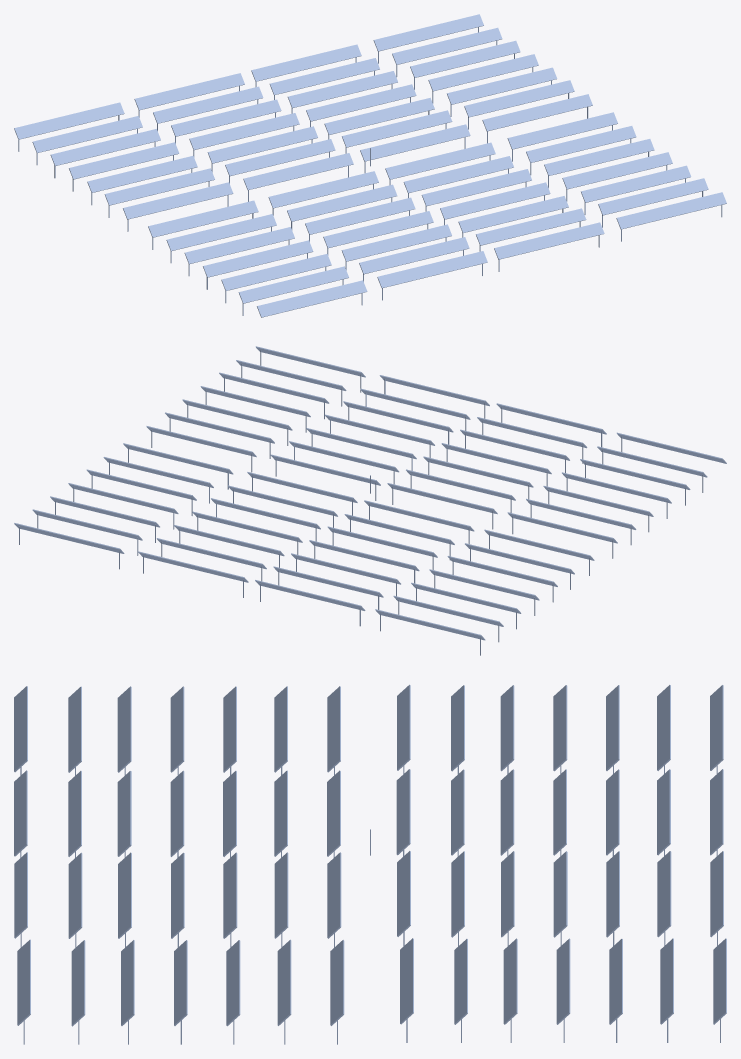
File: Solar_Power.glb
3 renders of one model, top to bottom at view 1: azimuth 30°, elevation 25°; view 2: azimuth 150°, elevation 25°; view 3: azimuth 270°, elevation 25°, orthographic. The views are drawn at different scales.
Parts seen in each view (by area): view 1: Floor1; view 2: Floor1; view 3: Floor1.
Boxes of the visible parts, bbox=[...] form: Floor1: bbox=[14, 14, 726, 317]; Floor1: bbox=[14, 346, 726, 655]; Floor1: bbox=[14, 684, 726, 1044].
Size of the model in its own units: 108 by 8.18 by 99.29.
